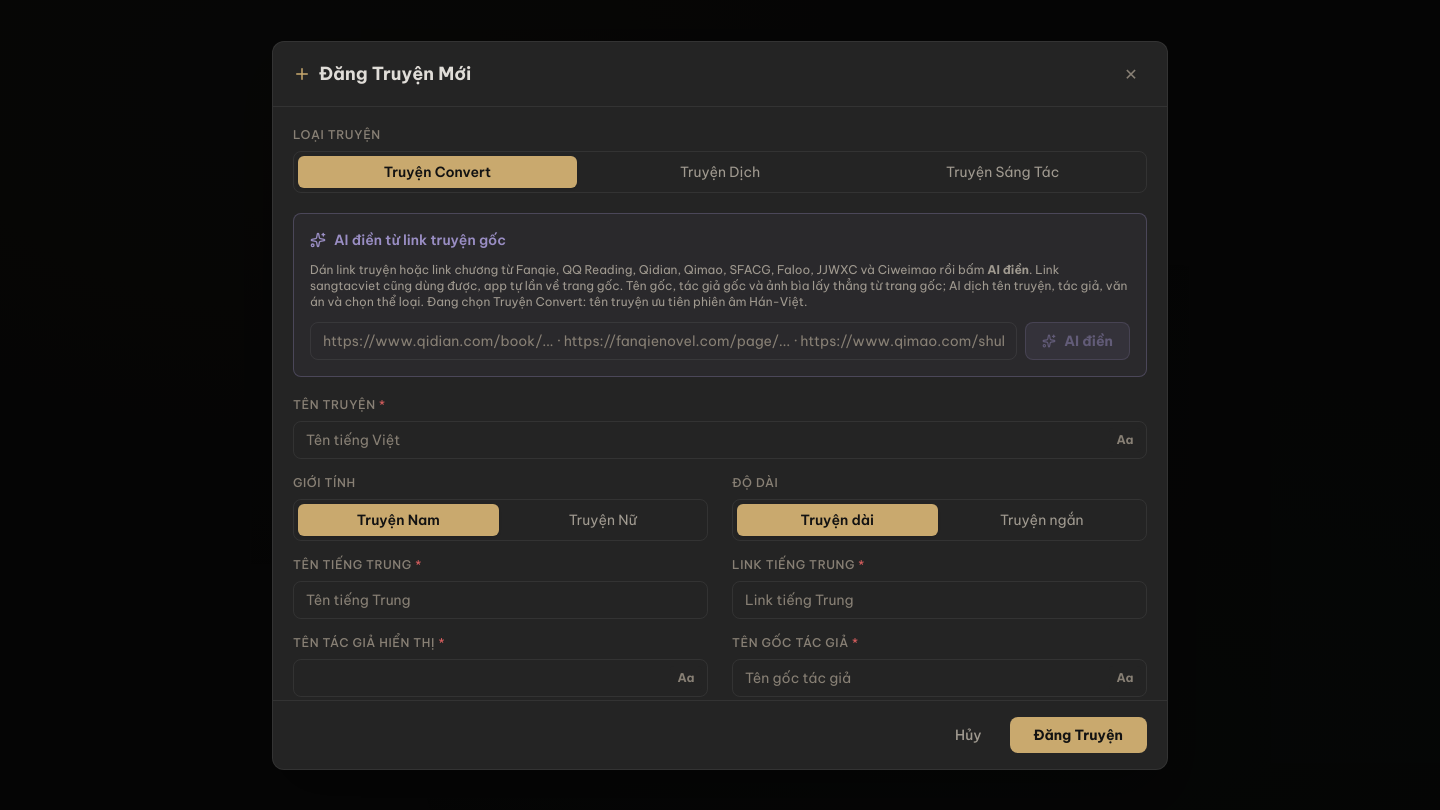
CreateBookModal › shows TTC's own message when it refuses the story, where the submit button is
Replace the text in the field named "Link truyện gốc" with "https://www.qidian.com/book/1010868264/" at x=664, y=340, box [310,322,1017,360]
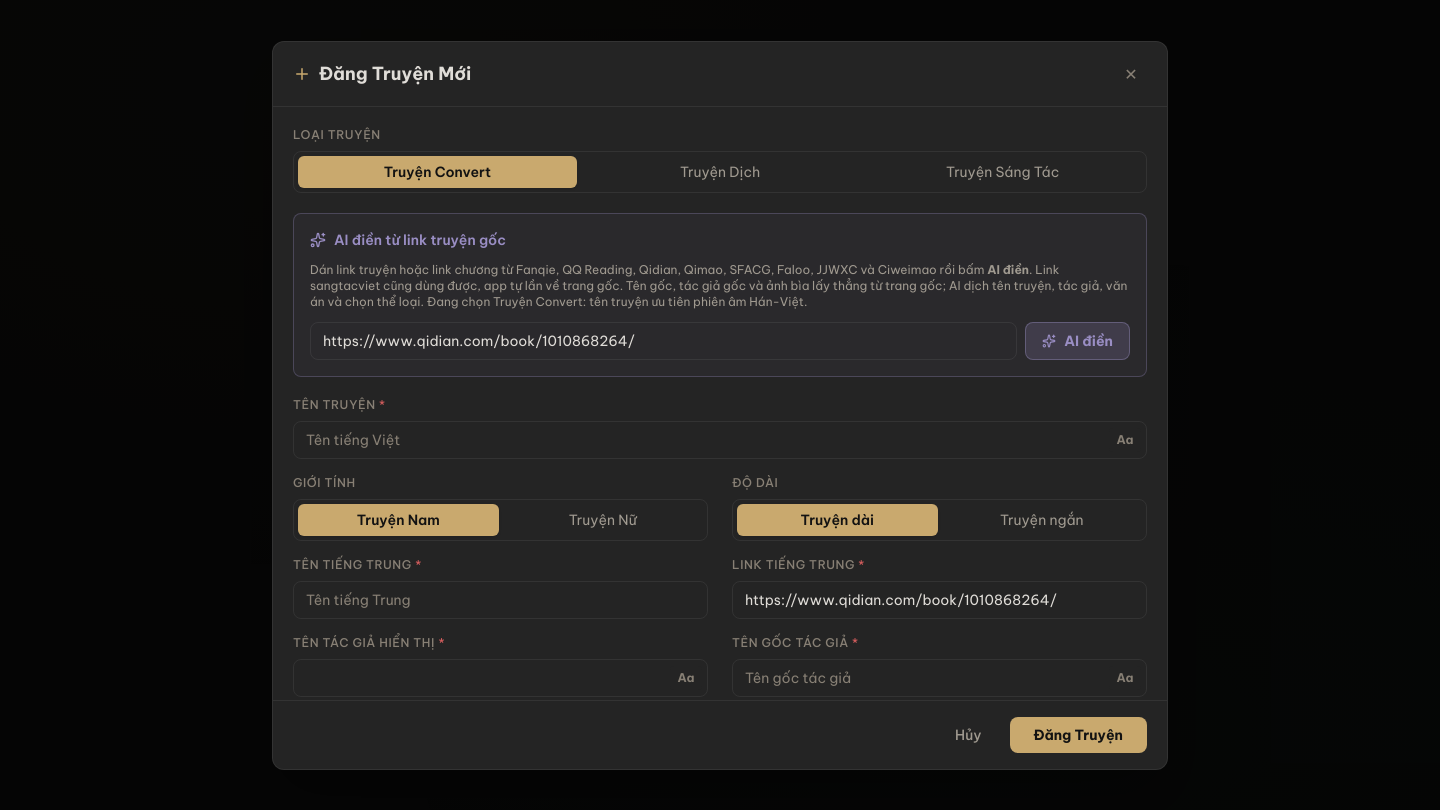
Click the button "AI điền".
click(1078, 340)  # box [1025,322,1130,360]
(page scrolled)
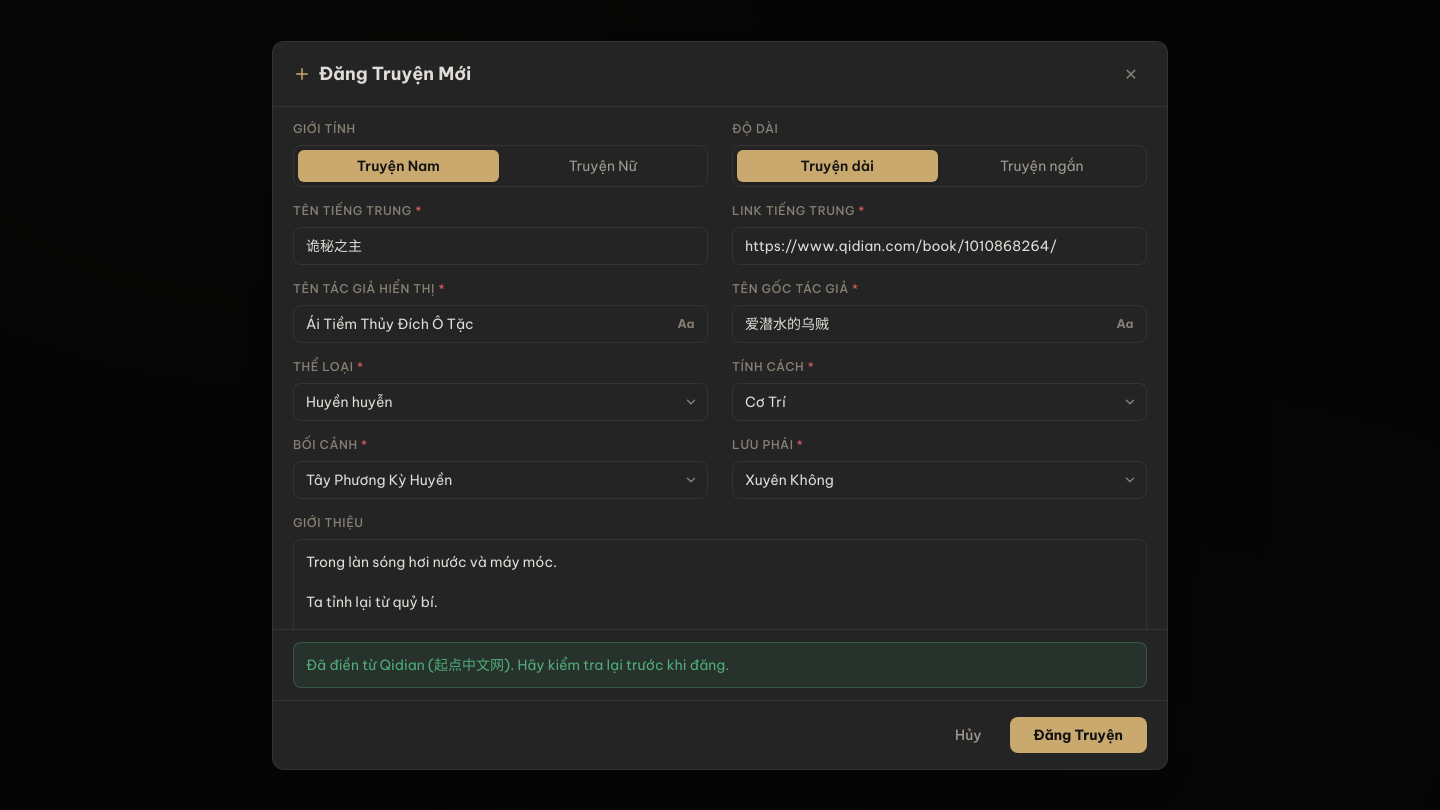
Submit the form with id "createBookForm"
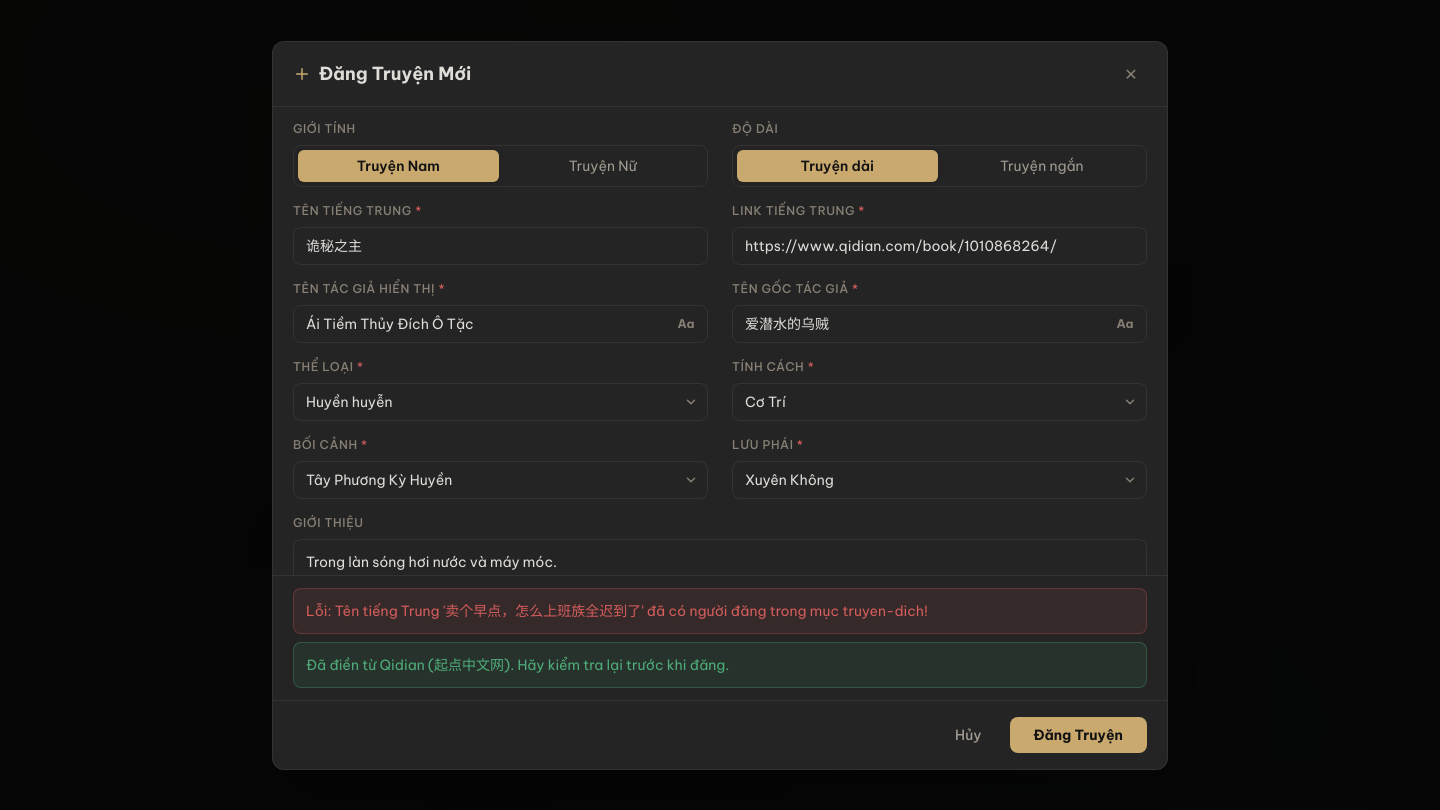
Check: the message reads "Lỗi: Tên tiếng Trung '卖个早点，怎么上班族全迟到了' đã có người đăng trong mục truyen-dich!", box [306,602,928,620]
